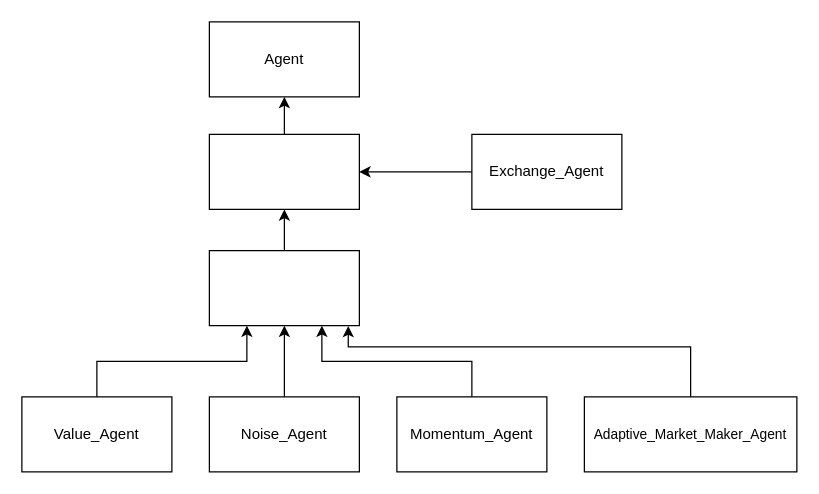
The diagram is 819 pixels wide and 494 high, and some of its shapes have lost their labels. Here are the shapes that lost their labels. From the top down, the box of each, then its label:
(208, 133, 359, 209): Financial_Agent
(208, 249, 359, 326): Trading_Agent
